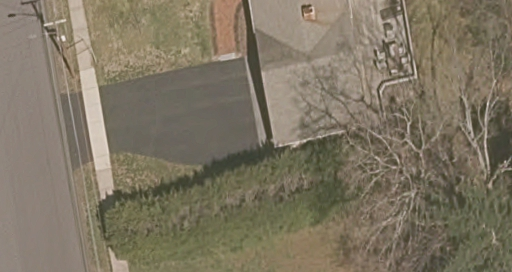DT: (42, 17, 76, 79)
